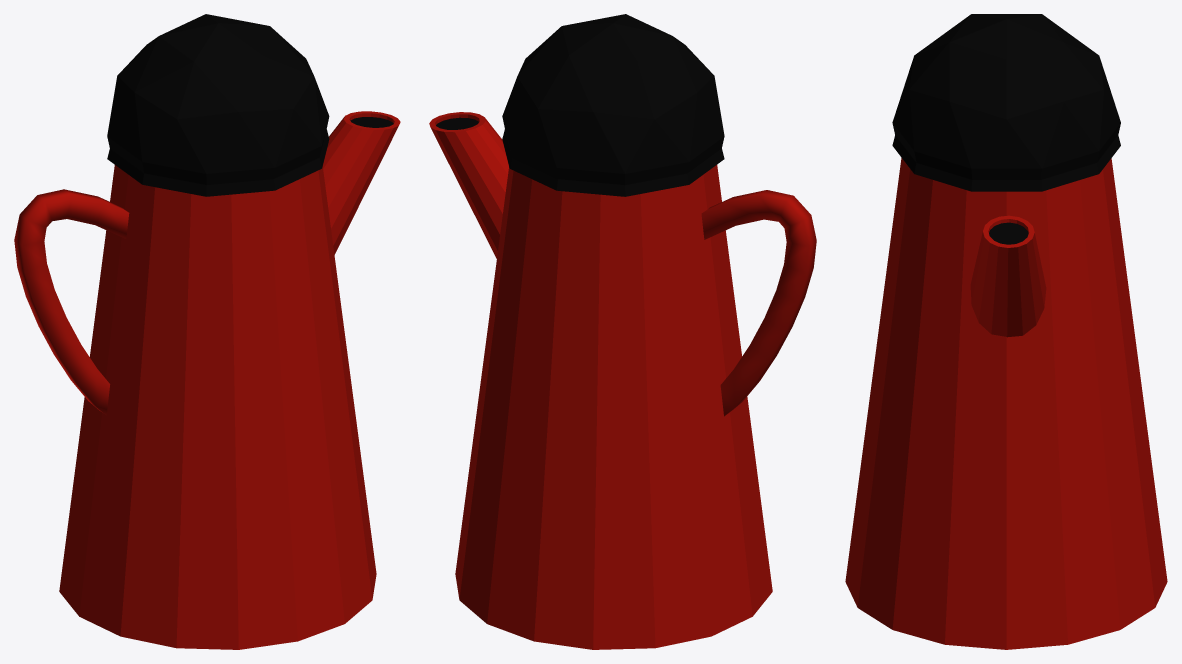
Rendered from kettle.fbx.
3 renders of one model, left to right at view 1: azimuth 30°, elevation 25°; view 2: azimuth 150°, elevation 25°; view 3: azimuth 270°, elevation 25°, orthographic.
Visible parts, largest first — view 1: Kettle, Icosphere; view 2: Kettle, Icosphere; view 3: Kettle, Icosphere.
Boxes of the visible parts, x1,y1,x2,y2 form: Kettle: (14,111,400,649); Icosphere: (107,14,329,196); Kettle: (429,112,816,649); Icosphere: (502,14,724,196); Kettle: (845,158,1167,649); Icosphere: (892,14,1120,191).
Size of the model in its own units: 274 by 386 by 200.
